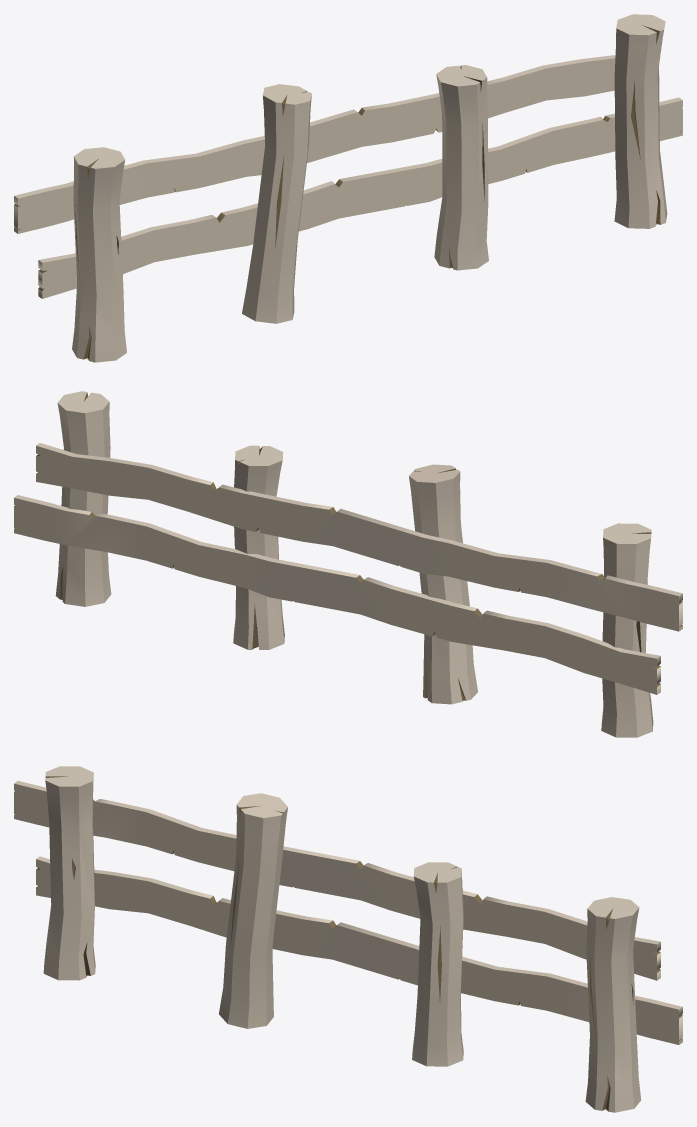
Rendered from _fences.fbx.
The picture shows the model from 3 angles, top to bottom: view 1: azimuth 30°, elevation 25°; view 2: azimuth 150°, elevation 25°; view 3: azimuth 330°, elevation 25°; orthographic projection.
Visible parts, largest first — view 1: Cube_1, Cube, Cylinder_4, Cylinder_5, Cylinder_3, Cylinder_2; view 2: Cube, Cube_1, Cylinder_4, Cylinder_3, Cylinder_5, Cylinder_2; view 3: Cube_1, Cube, Cylinder_4, Cylinder_3, Cylinder_5, Cylinder_2.
Part boxes in pixels (x1,y1,x2,y2): Cube_1: (38, 97, 682, 298); Cube: (14, 55, 615, 233); Cylinder_4: (242, 84, 311, 323); Cylinder_5: (72, 147, 126, 362); Cylinder_3: (614, 14, 667, 228); Cylinder_2: (434, 65, 488, 270); Cube: (36, 443, 682, 631); Cube_1: (14, 495, 660, 694); Cylinder_4: (409, 464, 477, 704); Cylinder_3: (55, 391, 111, 606); Cylinder_5: (601, 523, 653, 737); Cylinder_2: (233, 445, 284, 649); Cube_1: (36, 856, 682, 1044); Cube: (14, 781, 660, 980); Cylinder_4: (219, 793, 287, 1028); Cylinder_3: (585, 897, 641, 1112); Cylinder_5: (43, 766, 95, 980); Cylinder_2: (412, 862, 463, 1066).
Bounding box in the file's own units: 463 × 147 × 38.77.
